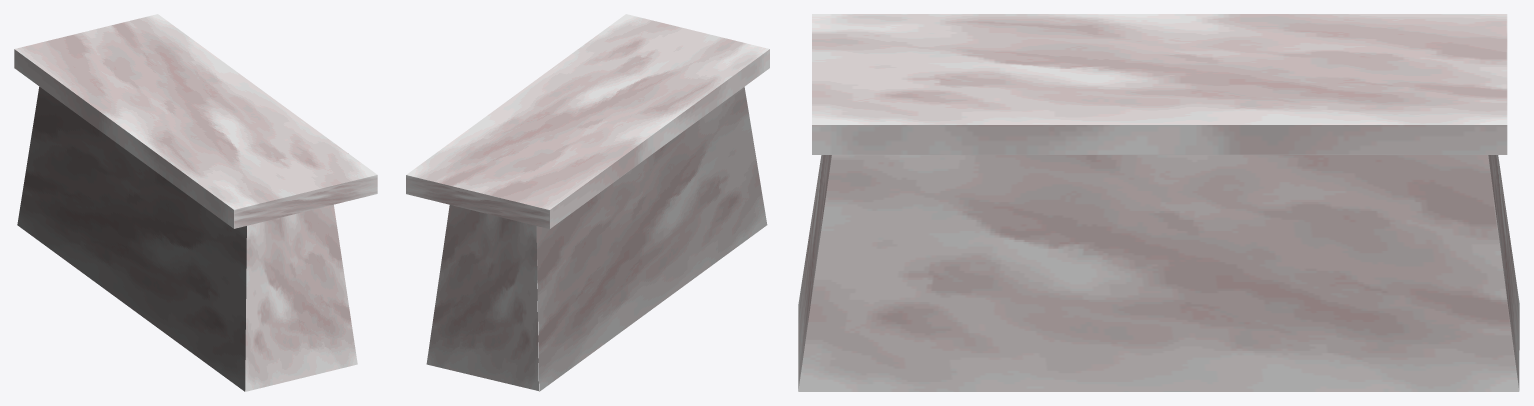
File: Theke_KurzBraun [Juwellier_Marmor]_2892.glb
The picture shows the model from 3 angles, left to right: view 1: azimuth 30°, elevation 25°; view 2: azimuth 150°, elevation 25°; view 3: azimuth 270°, elevation 25°; orthographic projection. The views are drawn at different scales.
Visible parts, largest first — view 1: pPlaneShape2, pPlaneShape5, pPlaneShape4, pPlaneShape7, pPlaneShape8; view 2: pPlaneShape2, pPlaneShape5, pPlaneShape3, pPlaneShape7, pPlaneShape9; view 3: pPlaneShape1, pPlaneShape5, pPlaneShape6, pPlaneShape4, pPlaneShape3.
Part boxes in pixels (x1,y1,x2,y2): pPlaneShape2: [17, 86, 246, 391]; pPlaneShape5: [14, 14, 377, 209]; pPlaneShape4: [245, 204, 357, 391]; pPlaneShape7: [14, 49, 233, 228]; pPlaneShape8: [234, 175, 377, 228]; pPlaneShape2: [536, 87, 767, 391]; pPlaneShape5: [406, 14, 769, 209]; pPlaneShape3: [426, 205, 538, 390]; pPlaneShape7: [550, 49, 769, 228]; pPlaneShape9: [406, 175, 549, 228]; pPlaneShape1: [798, 155, 1519, 391]; pPlaneShape5: [812, 14, 1507, 124]; pPlaneShape6: [812, 125, 1507, 154]; pPlaneShape4: [798, 155, 831, 390]; pPlaneShape3: [1488, 155, 1519, 390].
Bounding box in the file's own units: 0.1281 × 0.1539 × 0.352.
9 materials, 9 textured.
